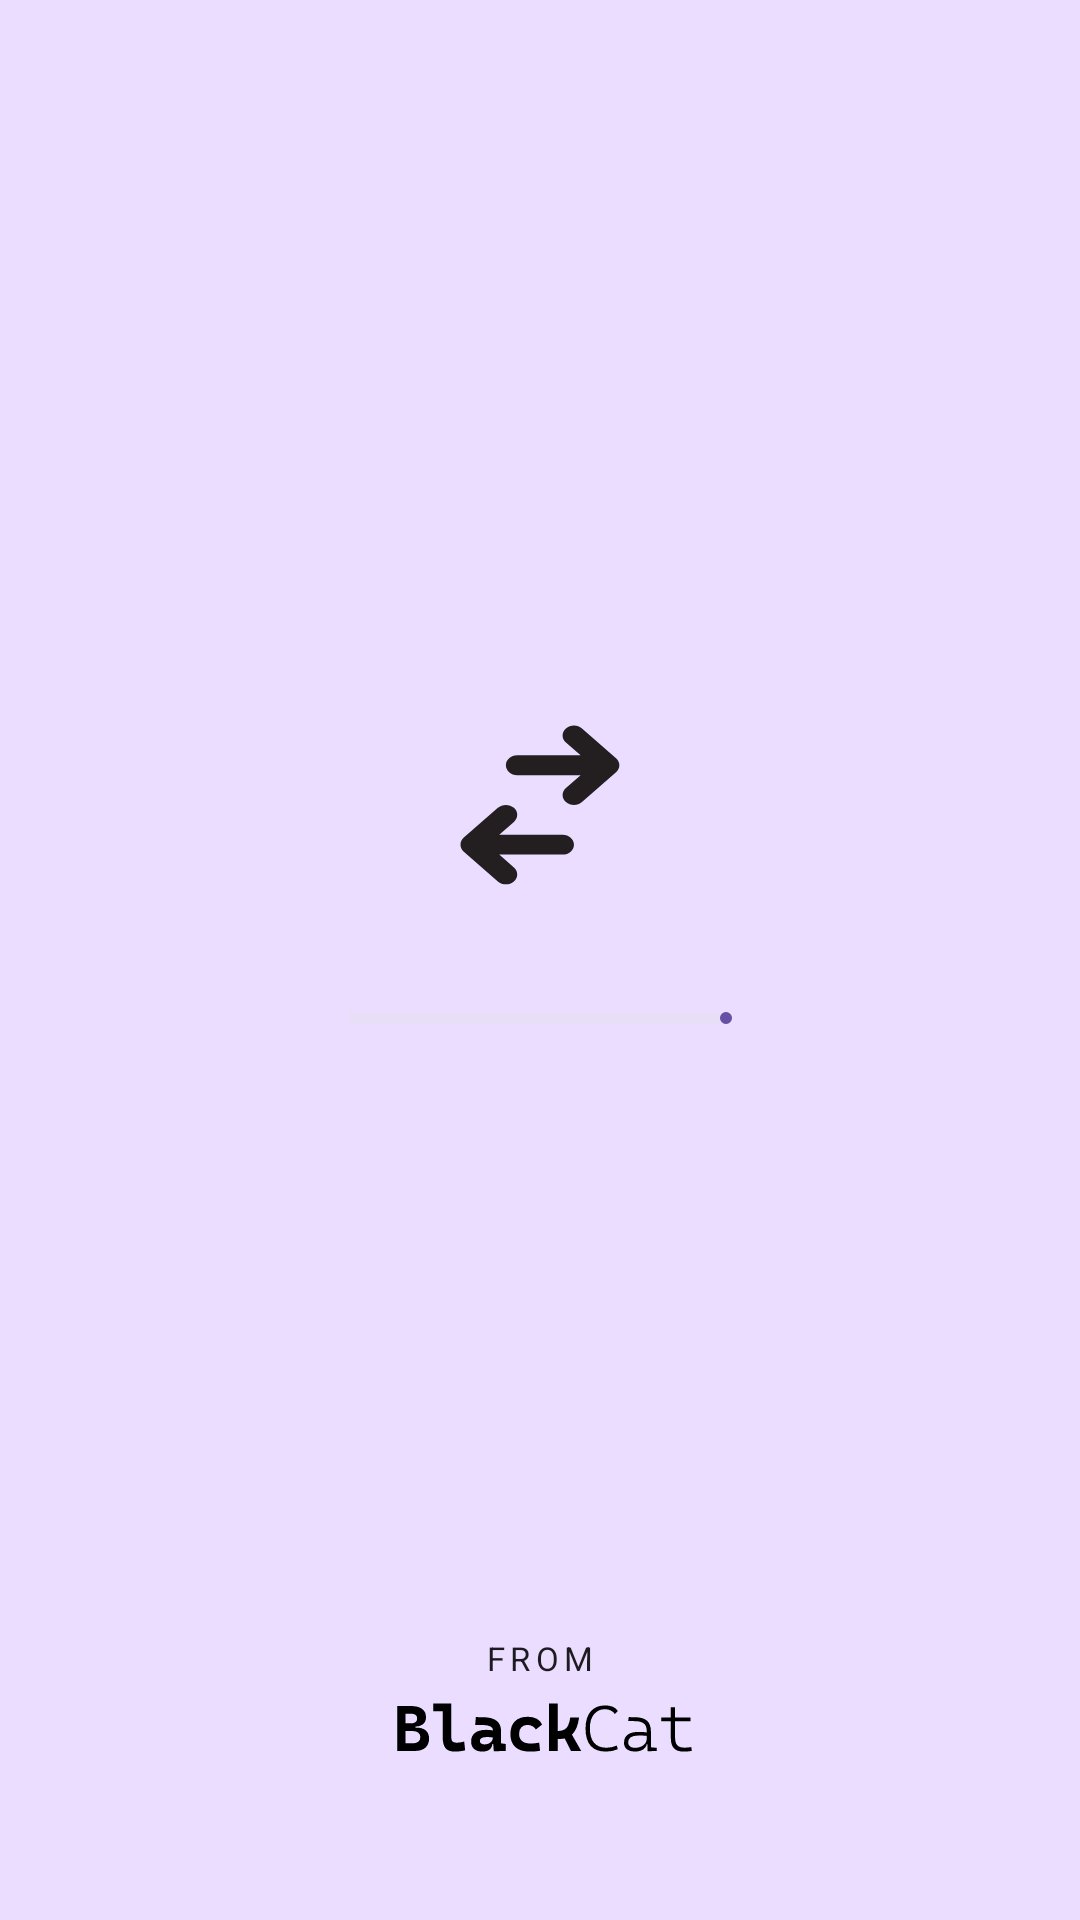

Where icons sit on this 1080*1920 app screen, as (x1, y1, x2, y2):
base conversion: (460, 725, 620, 885)
